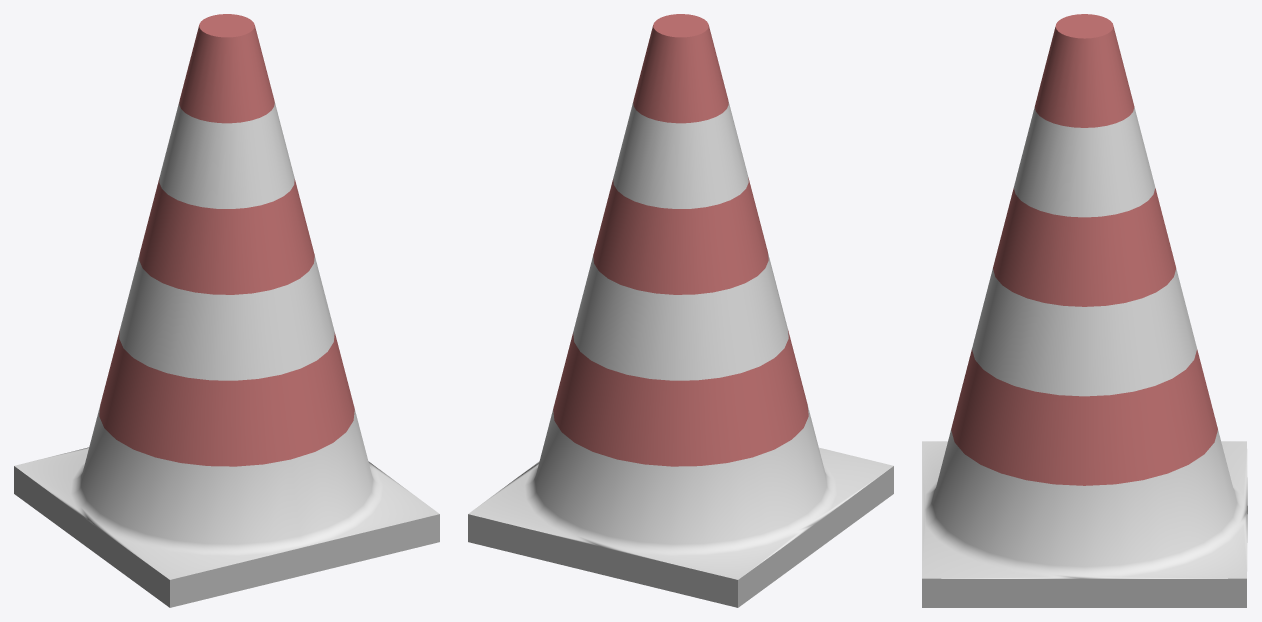
Rendered from SM_Cone_Barrel.glb.
The picture shows the model from 3 angles, left to right: view 1: azimuth 30°, elevation 25°; view 2: azimuth 150°, elevation 25°; view 3: azimuth 270°, elevation 25°; orthographic projection. The views are drawn at different scales.
Visible parts, largest first — view 1: SM_Cone_Barrel; view 2: SM_Cone_Barrel; view 3: SM_Cone_Barrel.
Boxes of the visible parts, <box> form: SM_Cone_Barrel: <box>14,14,439,607</box>; SM_Cone_Barrel: <box>468,14,893,607</box>; SM_Cone_Barrel: <box>922,14,1247,607</box>.
Size of the model in its own units: 0.346 by 0.5997 by 0.3451.
